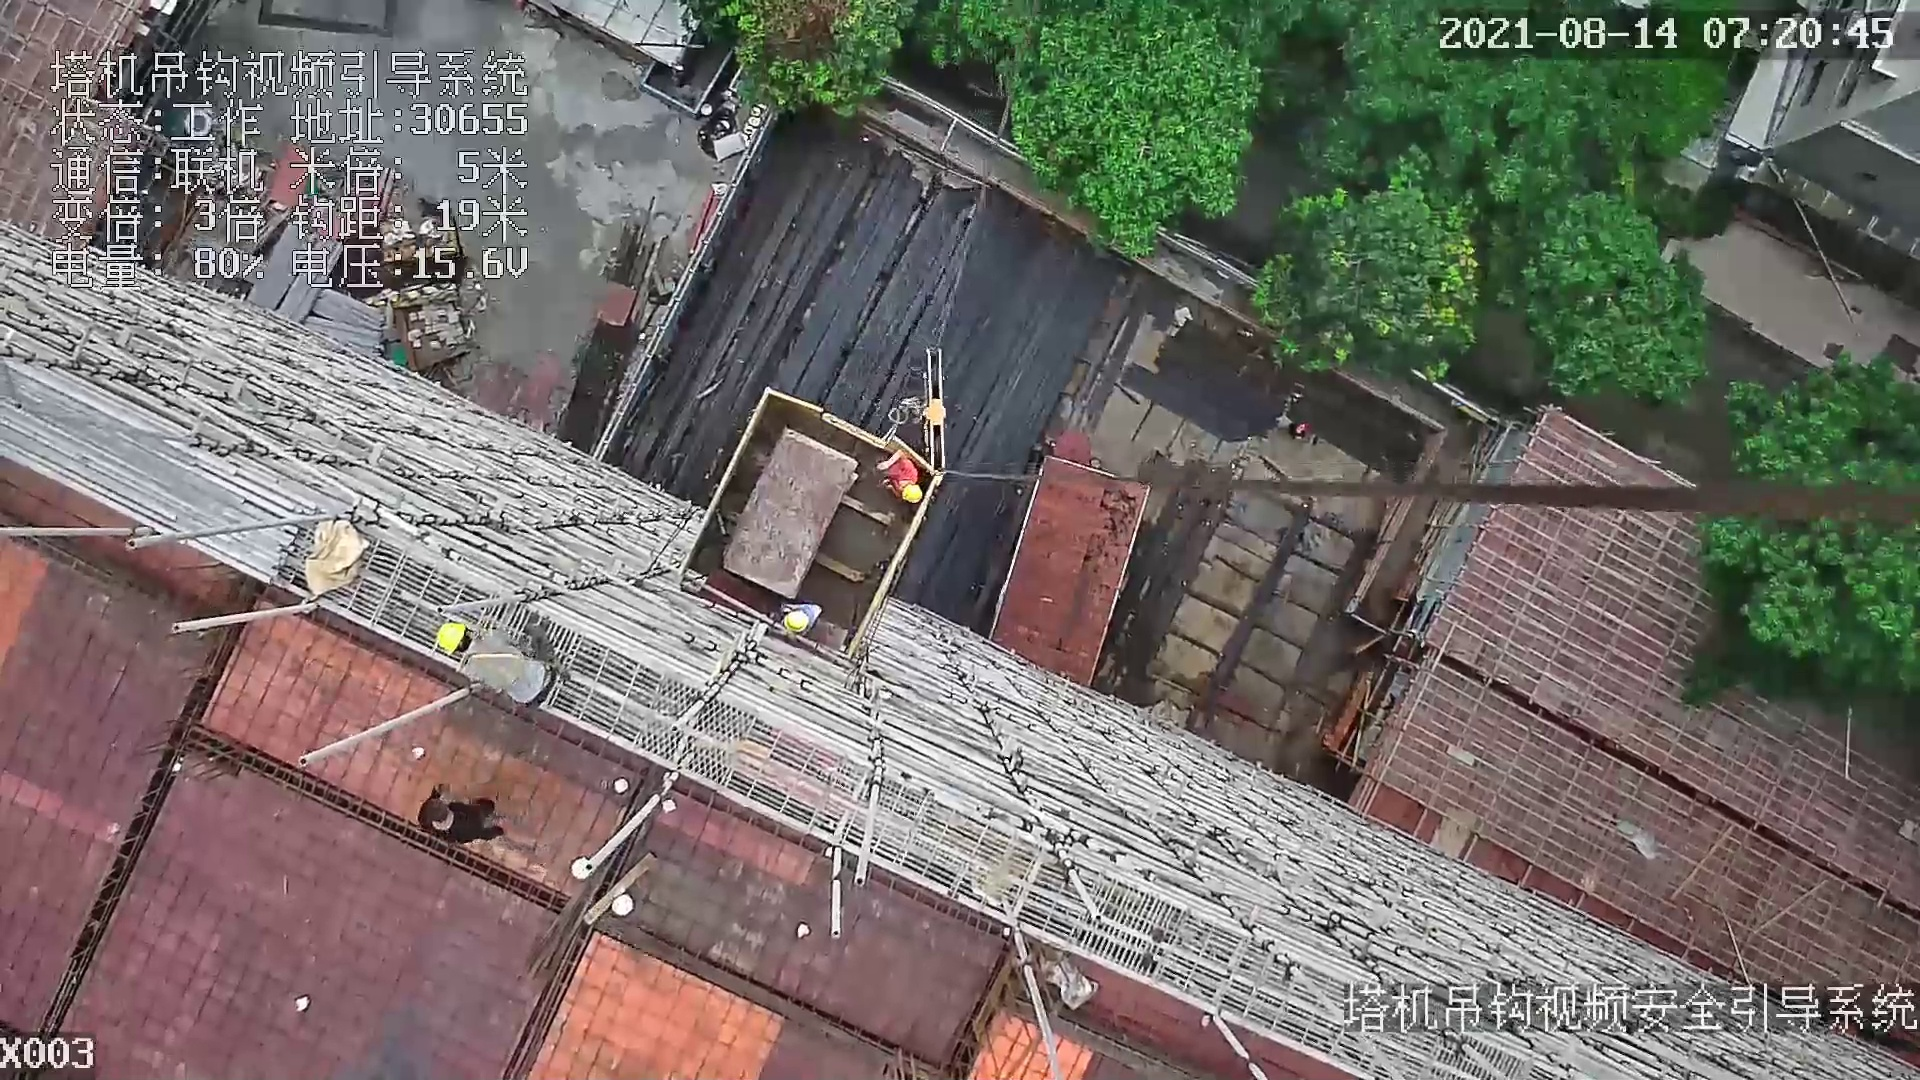helmet: (434, 623, 467, 658), (782, 610, 809, 631), (901, 482, 922, 501)
hook: (910, 342, 955, 482)
person: (429, 617, 563, 710), (404, 781, 504, 854), (881, 446, 927, 506), (764, 592, 817, 637)
